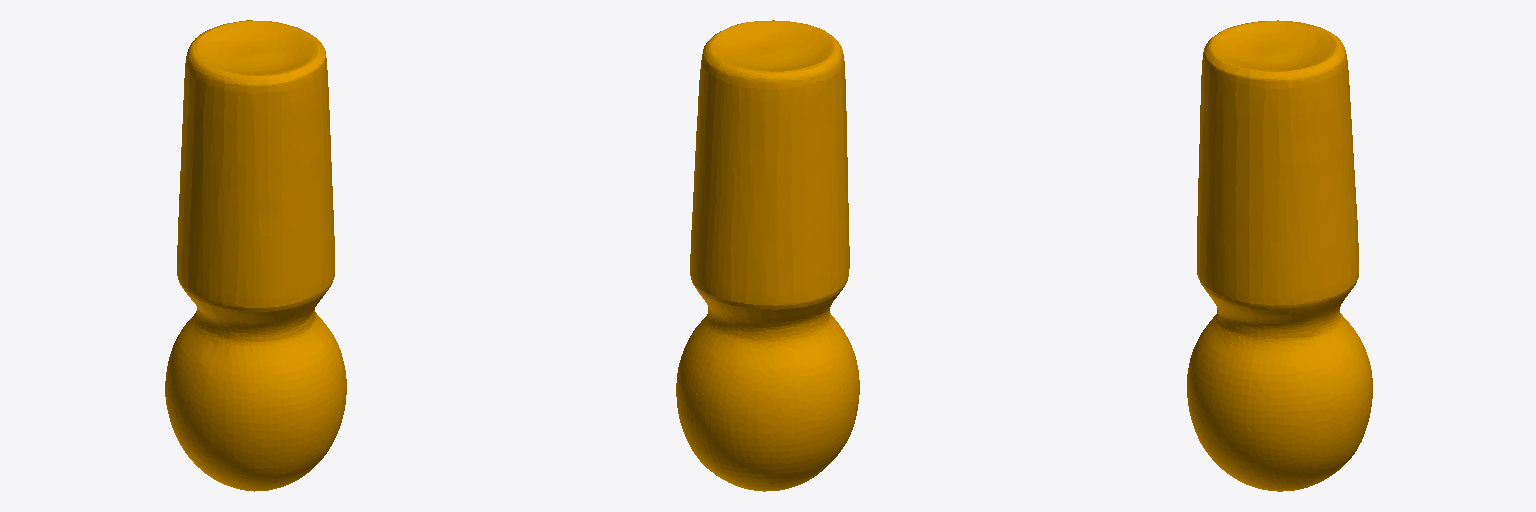
URDF robot description (beakerlid):
<?xml version="1.0" ?>
<!-- auto-generated by gen_object_urdf.py (TactiDex import) -->
<robot name="beakerlid">
  <link name="bottom">
    <inertial>
      <origin rpy="0 0 0" xyz="-0.00044280663 -0.00074091964 -0.0010340728"/>
      <mass value="0.2"/>
      <inertia ixx="6.1112975e-05" ixy="-1.3124107e-07" ixz="3.3872507e-07"
               iyy="6.0830119e-05" iyz="6.958189e-07" izz="1.1463122e-05"/>
    </inertial>
    <visual>
      <origin rpy="0 0 0" xyz="0 0 0"/>
      <geometry><mesh filename="beakerlid.obj" scale="1 1 1"/></geometry>
    </visual>
      <collision>
        <origin rpy="0 0 0" xyz="0 0 0"/>
        <geometry><mesh filename="collision_parts/part_000.obj" scale="1 1 1"/></geometry>
      </collision>
      <collision>
        <origin rpy="0 0 0" xyz="0 0 0"/>
        <geometry><mesh filename="collision_parts/part_001.obj" scale="1 1 1"/></geometry>
      </collision>
  </link>
</robot>

--- Render facts (derived) ---
3 views of the same robot in one strip: view 1: azimuth 30°, elevation 25°; view 2: azimuth 150°, elevation 25°; view 3: azimuth 270°, elevation 25° (orthographic).
Model beakerlid with 1 links and 0 joints (none), rooted at bottom, posed all joints at 0.
Links seen in each view (by area): view 1: bottom; view 2: bottom; view 3: bottom.
Link boxes in pixels (bbox=[...]): bottom: bbox=[165, 20, 346, 491]; bottom: bbox=[676, 20, 859, 491]; bottom: bbox=[1187, 20, 1372, 491].
Bounding box of the posed robot: 0.0235 × 0.0241 × 0.0624 m (x, y, z).
1 mesh visuals loaded from 1 distinct referenced files (1 OBJ).
